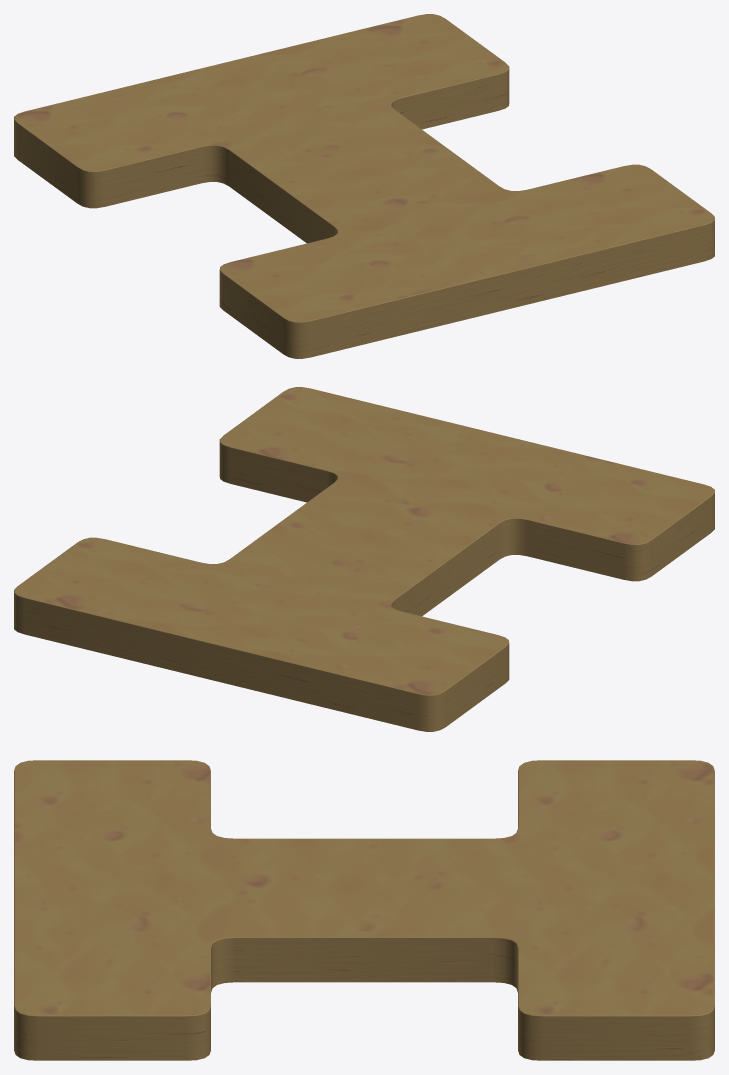
The model's file is i-beam.glb.
The picture shows the model from 3 angles, top to bottom: view 1: azimuth 30°, elevation 25°; view 2: azimuth 150°, elevation 25°; view 3: azimuth 270°, elevation 25°; orthographic projection. The views are drawn at different scales.
Visible parts, largest first — view 1: geometry_0; view 2: geometry_0; view 3: geometry_0.
Boxes of the visible parts, box(x1,y1,x2,y2) form: geometry_0: box(14, 14, 714, 358); geometry_0: box(14, 387, 714, 731); geometry_0: box(14, 760, 714, 1060).
Bounding box in the file's own units: 73.24 × 6 × 84.77.
1 material, 1 textured.
